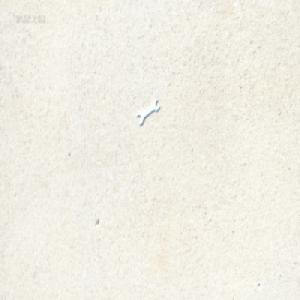Wrench: (136, 98, 159, 126)
